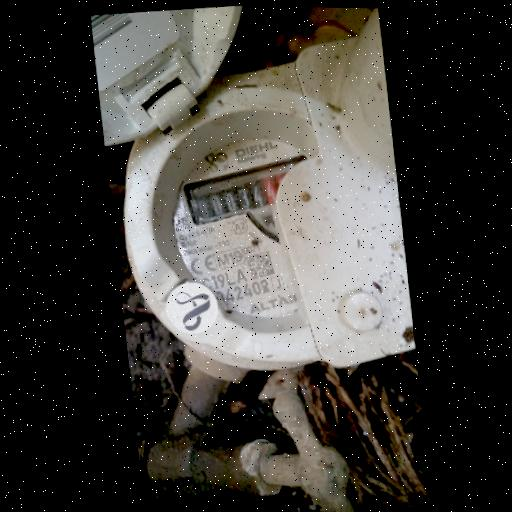0: (190, 191, 215, 226), (219, 185, 243, 218), (206, 188, 229, 222)
3: (232, 182, 255, 215)
4: (246, 178, 270, 211), (261, 175, 283, 206)
border_water_meter_number: (179, 149, 320, 231)
